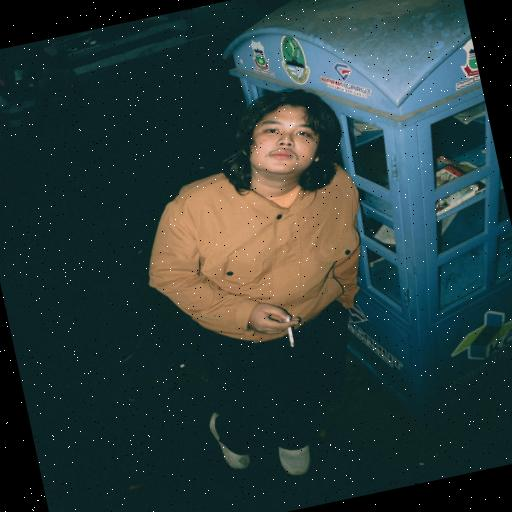terdeteksi pegang rokok: (245, 286, 326, 369)
